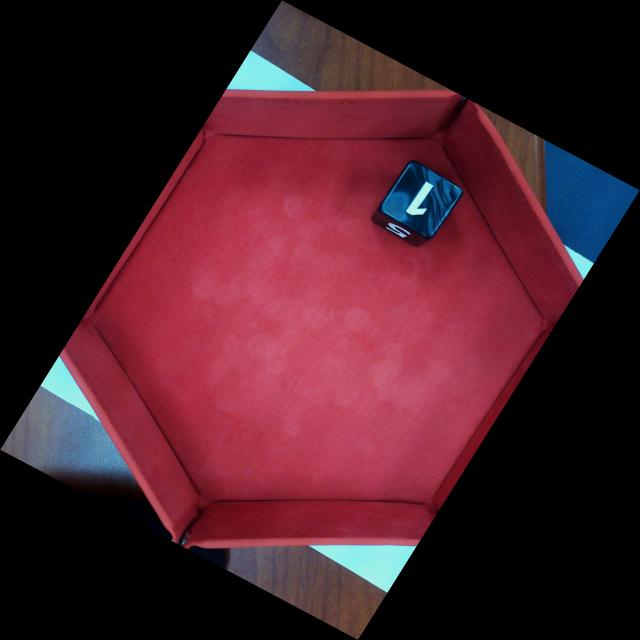dice: (378, 160, 464, 240)
